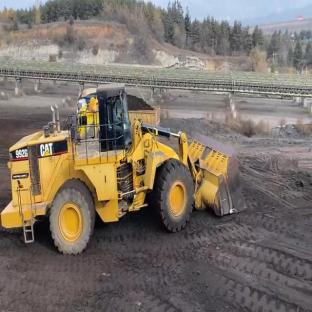ExcavationMachinery: (89, 86, 268, 230)
